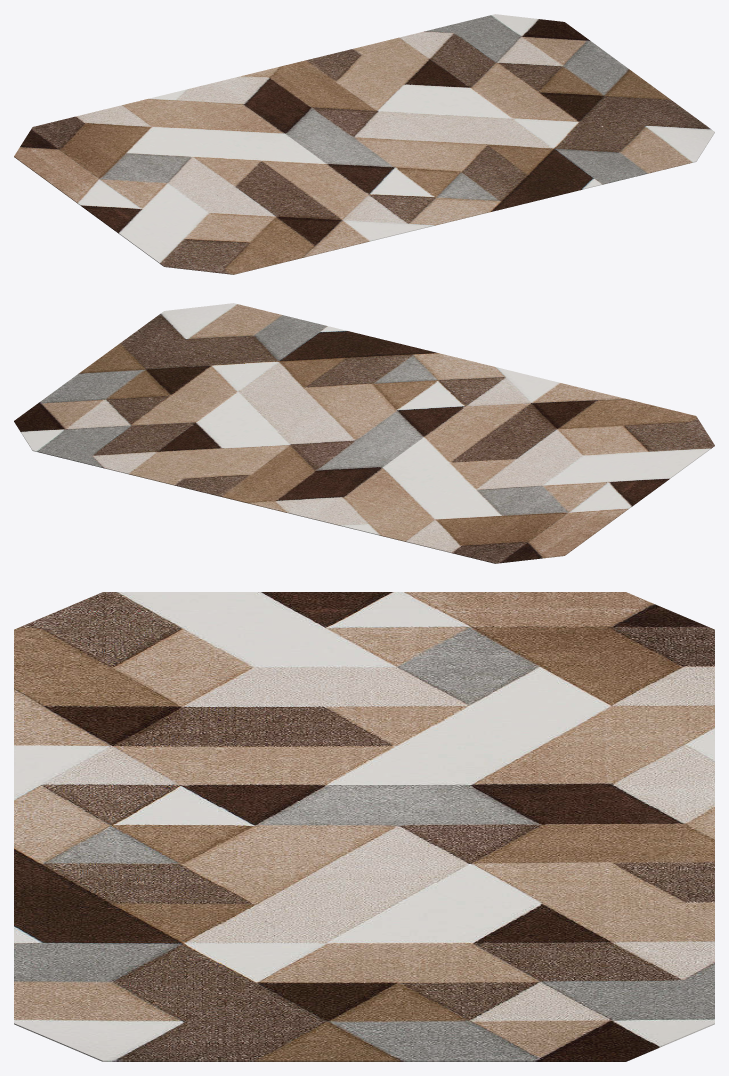
File: SM_GameArea_Carpet_01.fbx
The picture shows the model from 3 angles, top to bottom: view 1: azimuth 30°, elevation 25°; view 2: azimuth 150°, elevation 25°; view 3: azimuth 270°, elevation 25°; orthographic projection. The views are drawn at different scales.
Visible parts, largest first — view 1: SM_GameArea_Carpet_01; view 2: SM_GameArea_Carpet_01; view 3: SM_GameArea_Carpet_01.
Boxes of the visible parts, x1,y1,x2,y2 form: SM_GameArea_Carpet_01: [14, 14, 714, 274]; SM_GameArea_Carpet_01: [14, 303, 714, 563]; SM_GameArea_Carpet_01: [14, 592, 714, 1061].
Bounding box in the file's own units: 21.97 × 0.0252 × 13.89.
